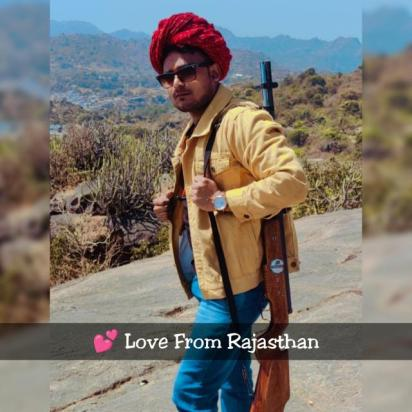Gun: (249, 59, 294, 412)
